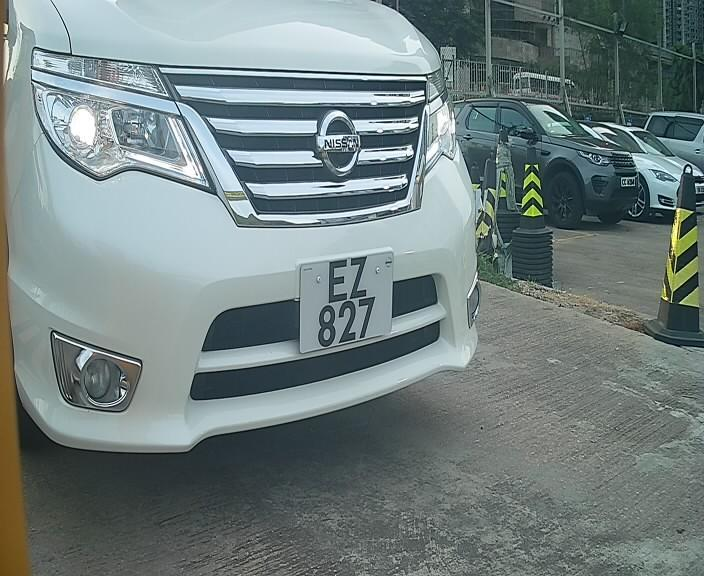privatecar: (1, 1, 532, 476)
